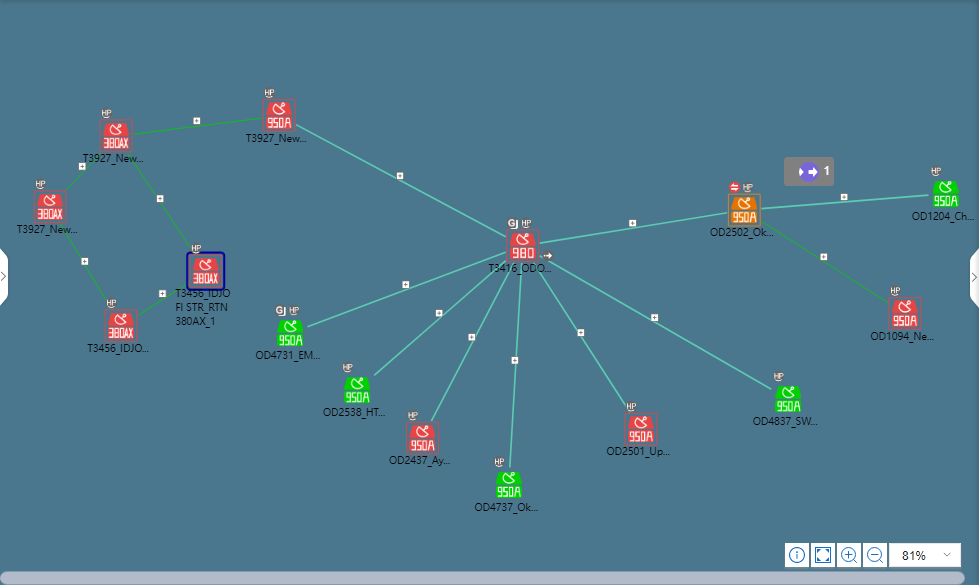Link_Blue: (542, 253, 769, 389), (297, 124, 509, 237), (370, 259, 502, 380), (529, 265, 632, 409), (309, 253, 494, 331), (431, 259, 516, 415), (542, 210, 730, 244), (762, 192, 927, 214), (511, 259, 528, 401)
Link_Green: (762, 222, 886, 303), (125, 155, 190, 248), (58, 222, 112, 305), (132, 118, 239, 141), (138, 283, 184, 315), (64, 155, 96, 188)
RTN_Green: (933, 179, 962, 208), (774, 387, 803, 416), (278, 320, 307, 349), (346, 375, 375, 403), (493, 473, 520, 502)
RTN_Orange: (731, 198, 760, 227)
RTN_Red: (34, 192, 69, 221), (266, 100, 295, 135), (511, 234, 540, 263), (193, 259, 222, 288), (890, 302, 919, 331), (627, 418, 655, 447), (107, 314, 135, 343), (101, 124, 128, 153), (407, 424, 434, 452)
